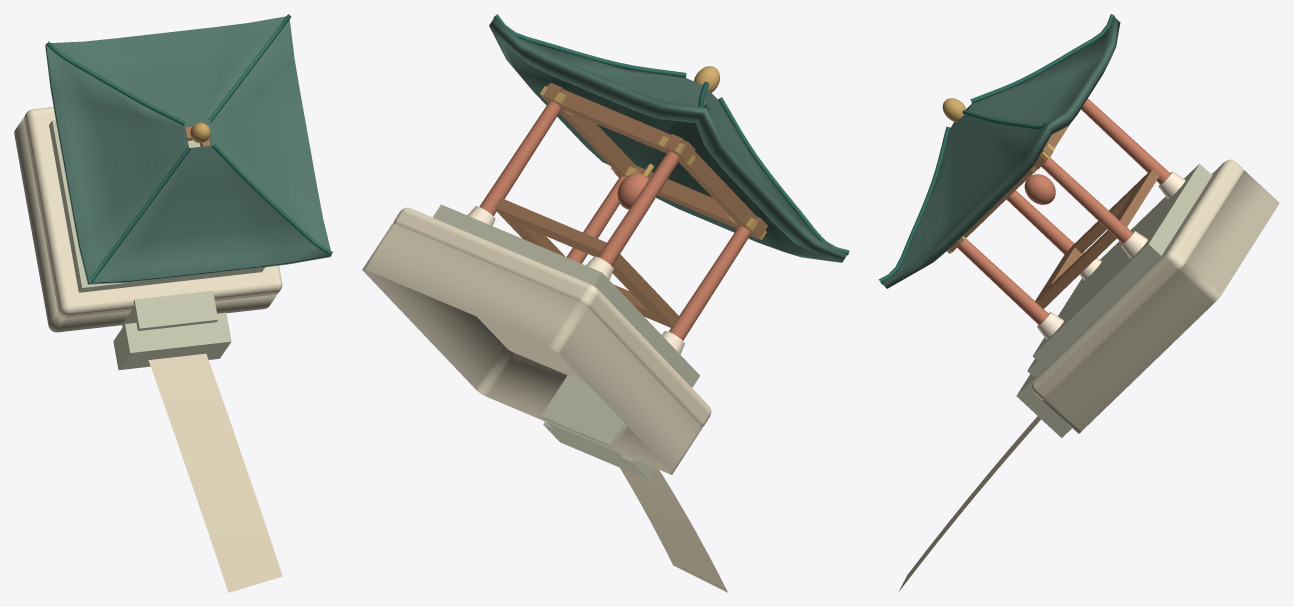
File: pavilion.glb
3 views of the same model, side by side, from view 1: azimuth 30°, elevation 25°; view 2: azimuth 150°, elevation 25°; view 3: azimuth 270°, elevation 25° (orthographic). The views are drawn at different scales.
Parts seen in each view (by area): view 1: pavilion (×6); view 2: pavilion (×10); view 3: pavilion (×10).
Boxes of the visible parts, left/top/right/bottom form: pavilion (×6): left=14, top=14, right=333, bottom=592; pavilion (×10): left=362, top=14, right=849, bottom=592; pavilion (×10): left=878, top=14, right=1279, bottom=591.
Bounding box in the file's own units: 0.1413 × 0.2441 × 0.1709.
